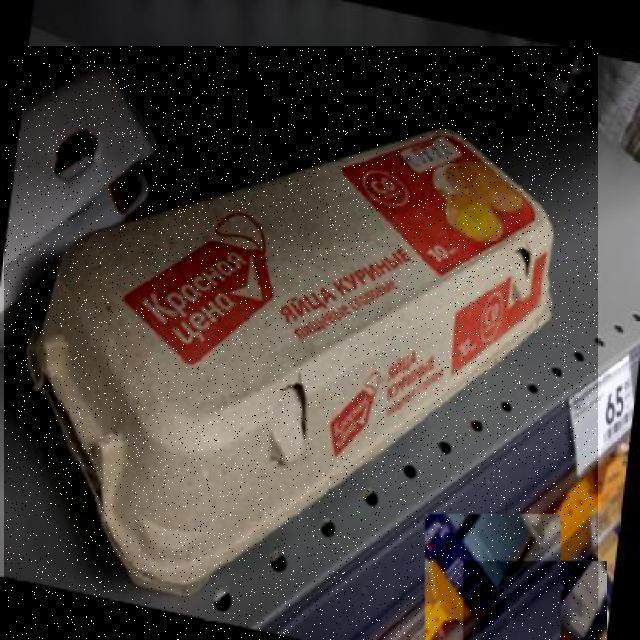Eggs: (4, 46, 598, 640), (425, 514, 561, 640), (463, 561, 607, 640)
